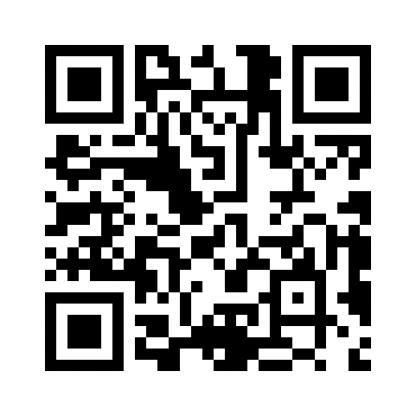qr: (42, 40, 375, 375)
